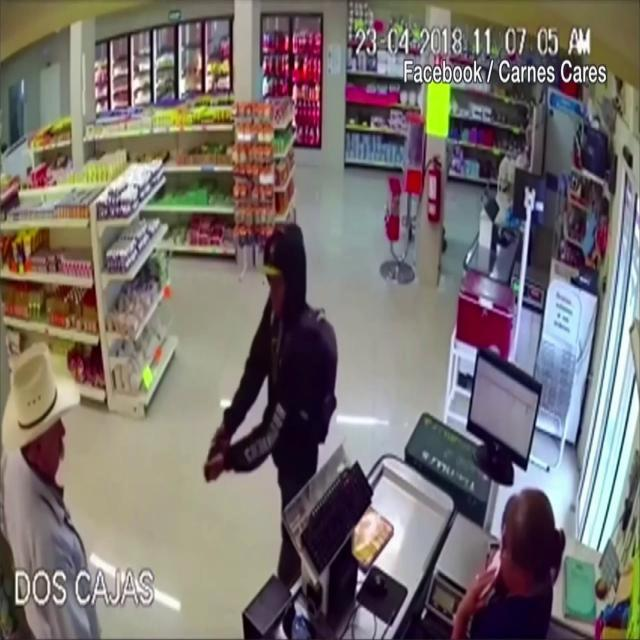weapon: (202, 436, 225, 484)
